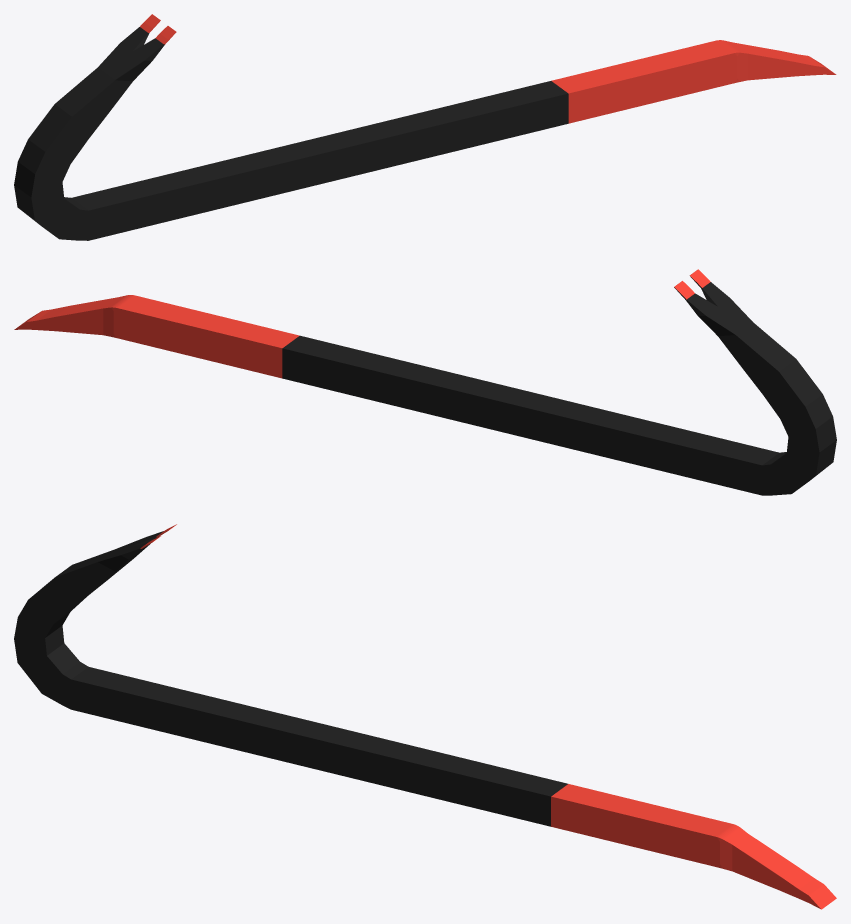
Rendered from levye.fbx.
3 views of the same model, one above another, from view 1: azimuth 30°, elevation 25°; view 2: azimuth 150°, elevation 25°; view 3: azimuth 330°, elevation 25° (orthographic).
Parts seen in each view (by area): view 1: Circle.001; view 2: Circle.001; view 3: Circle.001.
Part boxes in pixels (x1,y1,x2,y2): Circle.001: (14, 14, 836, 240); Circle.001: (14, 269, 836, 495); Circle.001: (14, 524, 836, 909).
Bounding box in the file's own units: 970 × 240 × 50.53.
